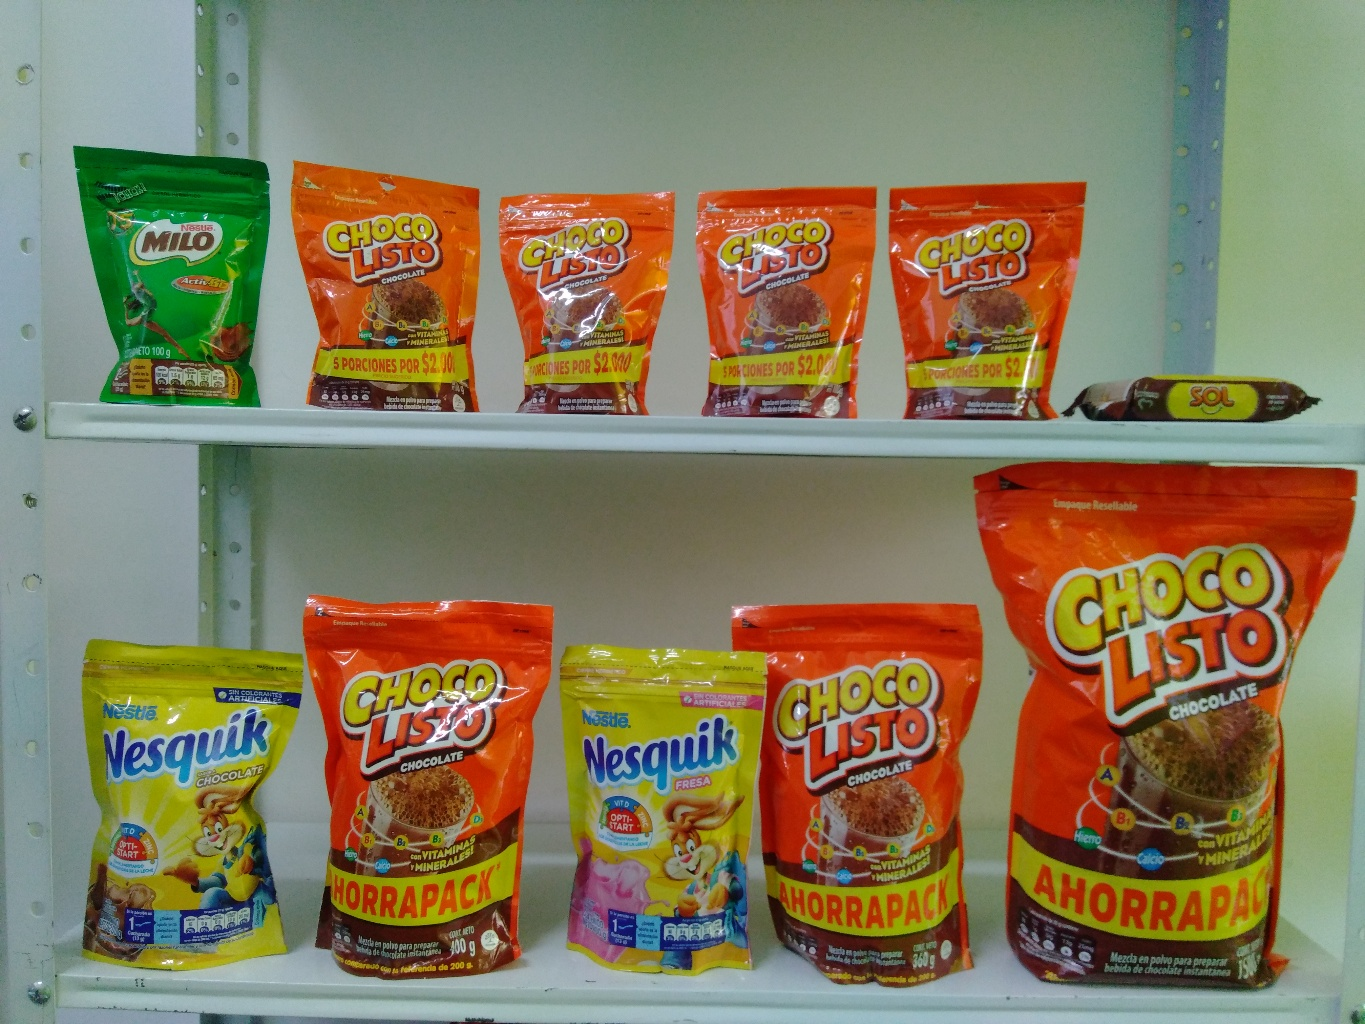COL0170103DYP1,500: (950, 445, 1356, 1007)
COL0170103DYP10000: (296, 159, 497, 419)
COL0170103DYP36000: (720, 598, 983, 979)
COL0170103DYP40000: (297, 591, 537, 972)
COL0170203DYP10000: (61, 136, 297, 413)
COL0170303DYP20000: (79, 631, 309, 972)
COL0170305DYP20000: (545, 627, 767, 970)
